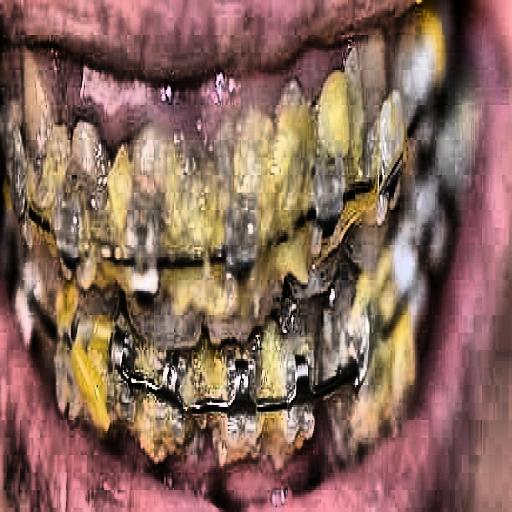Calculus: (0, 26, 477, 475)
